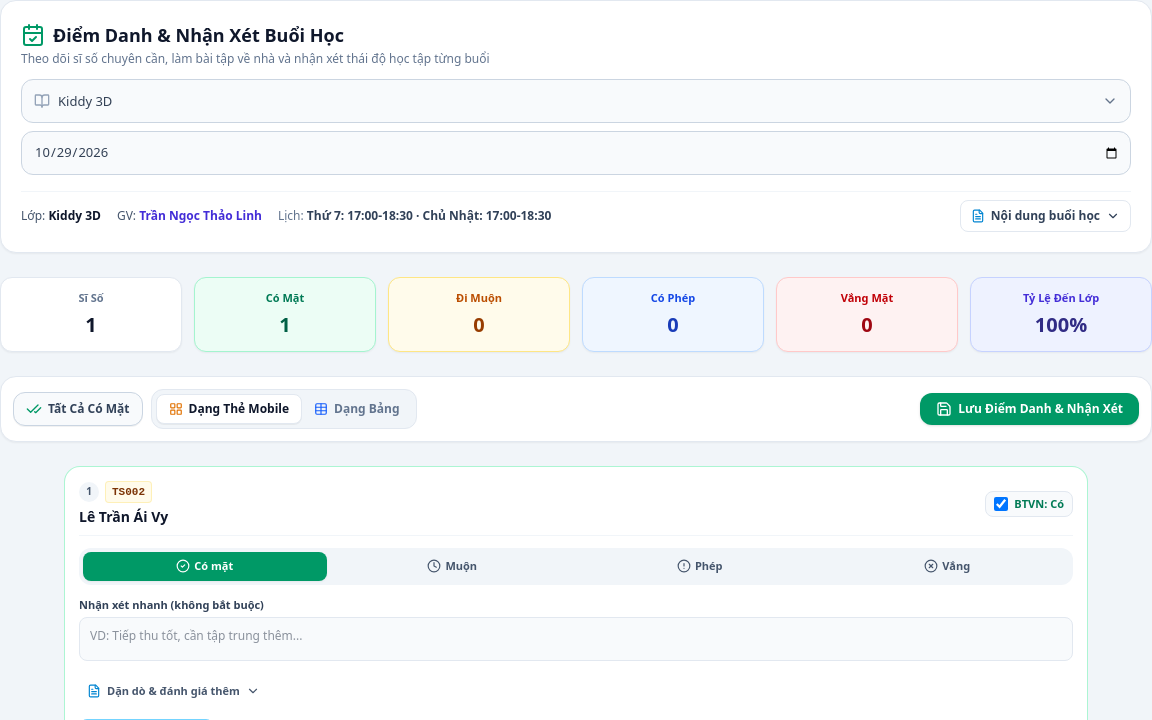
Test: attendance feedback editor › shows only essential fields by default and hides learning feedback when absent
Expected: the text "Nhận xét nhanh (không bắt buộc)" is shown, [79,596,264,612]
Click the button "Dặn dò & đánh giá thêm" at [173, 691], box [79,675,268,707]
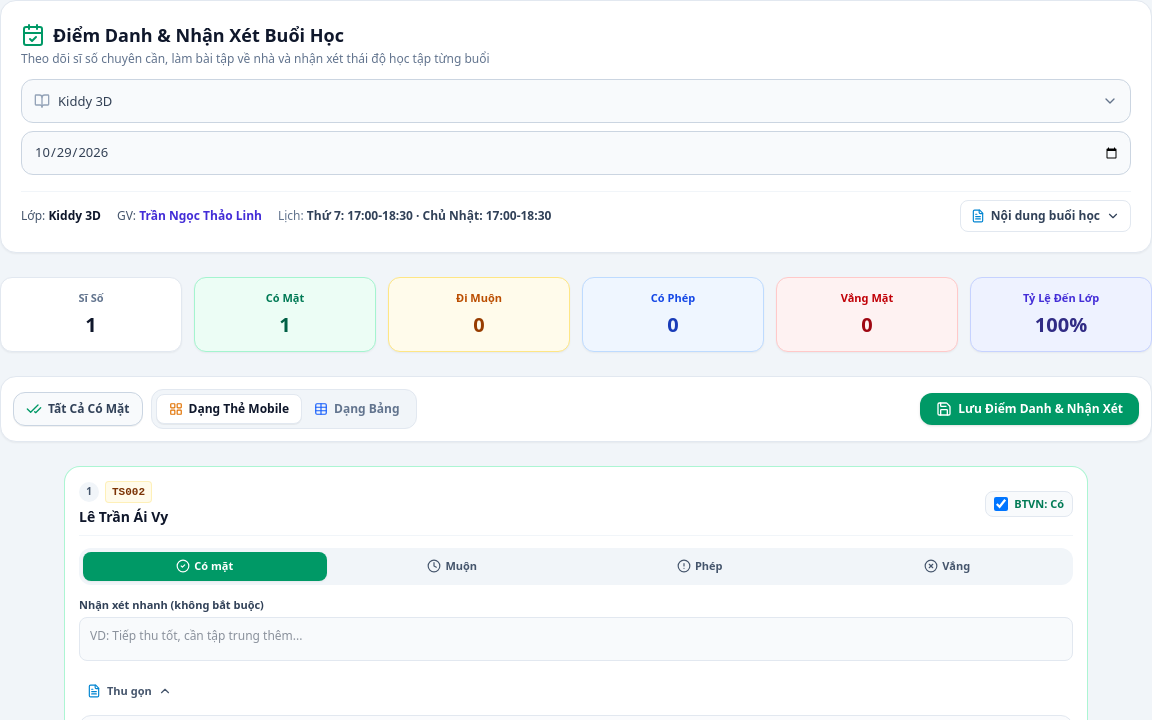
Expected: the text "BTVN: Có" is shown, [1014,496,1064,512]
Click the button "Vắng" at [947, 566], box [826,552,1069,580]
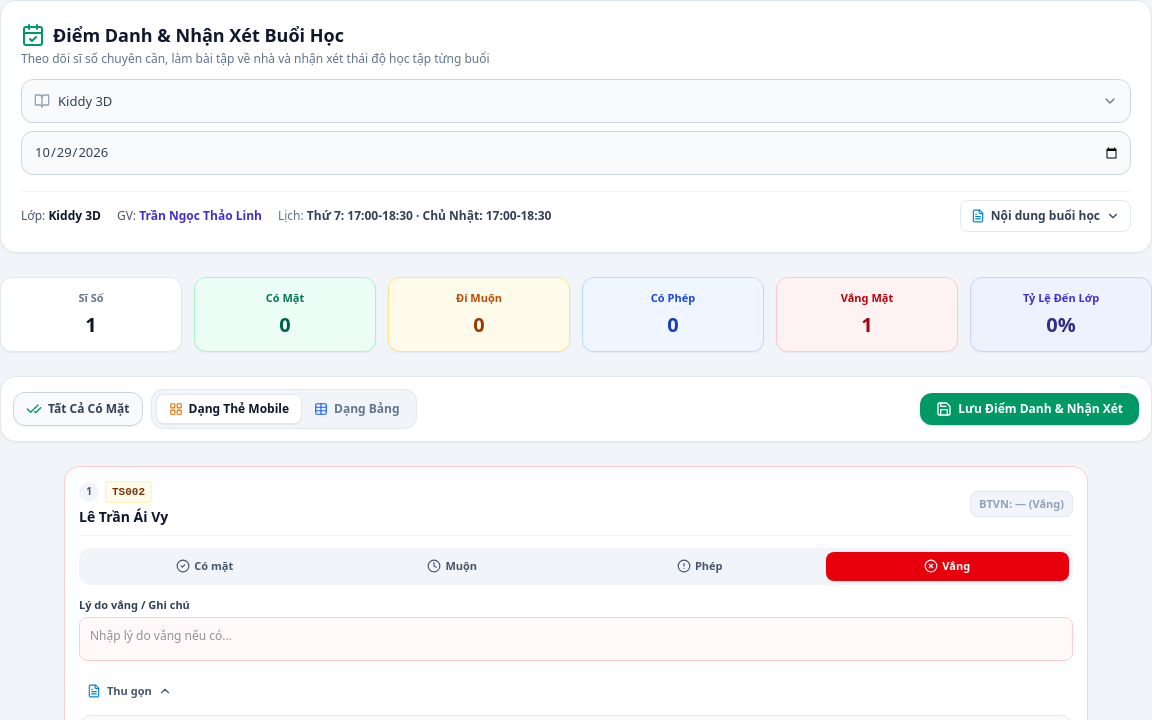
Now the text "Lý do vắng / Ghi chú" is shown, box [79,596,190,612]
Now the text "BTVN: — (Vắng)" is shown, box [970,490,1073,517]
Click the button "Có mặt" at [205, 566], box [83,552,326,580]
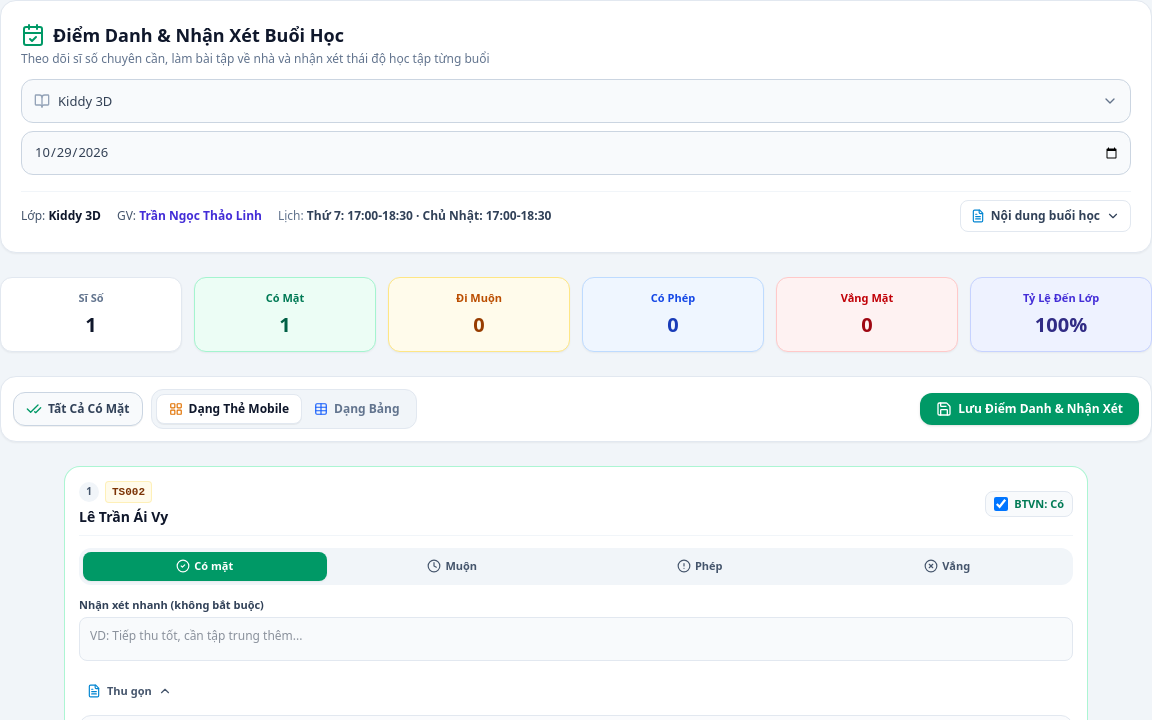
Now the text "Nhận xét nhanh (không bắt buộc)" is shown, box [79,596,264,612]
Now the text "BTVN: Có" is shown, box [1014,496,1064,512]
